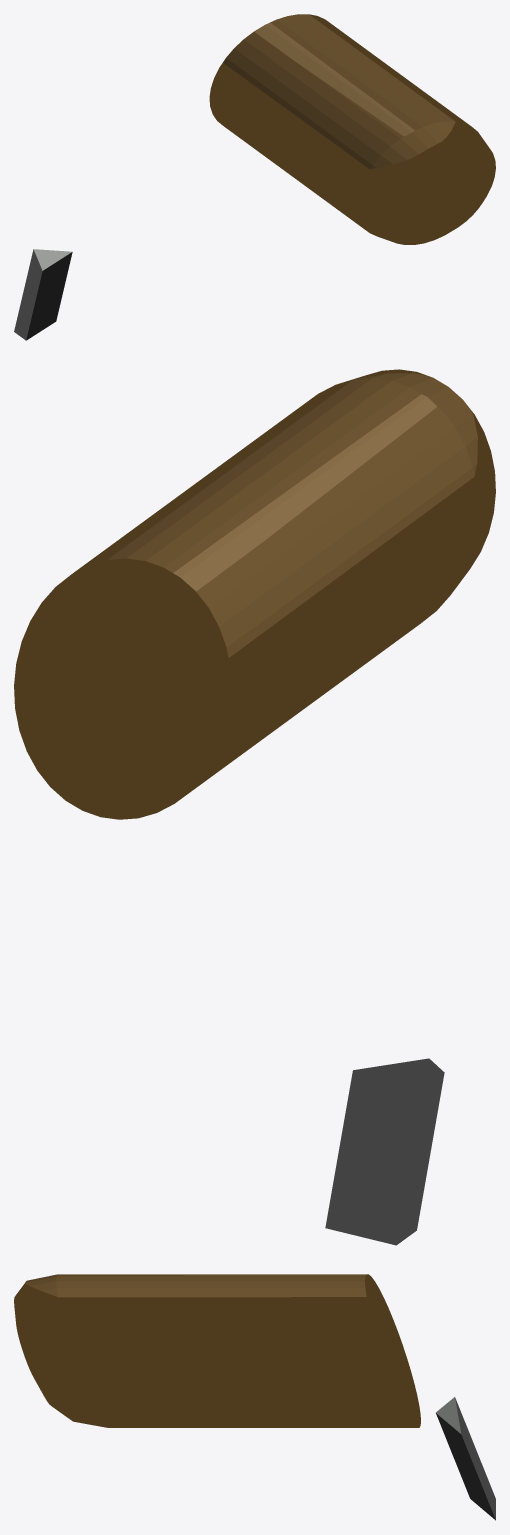
The model's file is pineapple_278.glb.
3 views of the same model, one above another, from view 1: azimuth 30°, elevation 25°; view 2: azimuth 150°, elevation 25°; view 3: azimuth 270°, elevation 25° (orthographic). The views are drawn at different scales.
Visible parts, largest first — view 1: pineapple_278; view 2: pineapple_278; view 3: pineapple_278.
Boxes of the visible parts, x1,y1,x2,y2 form: pineapple_278: (14,14,495,340); pineapple_278: (14,369,495,1245); pineapple_278: (14,1274,495,1520).
Bounding box in the file's own units: 13 × 14 × 18.74.
